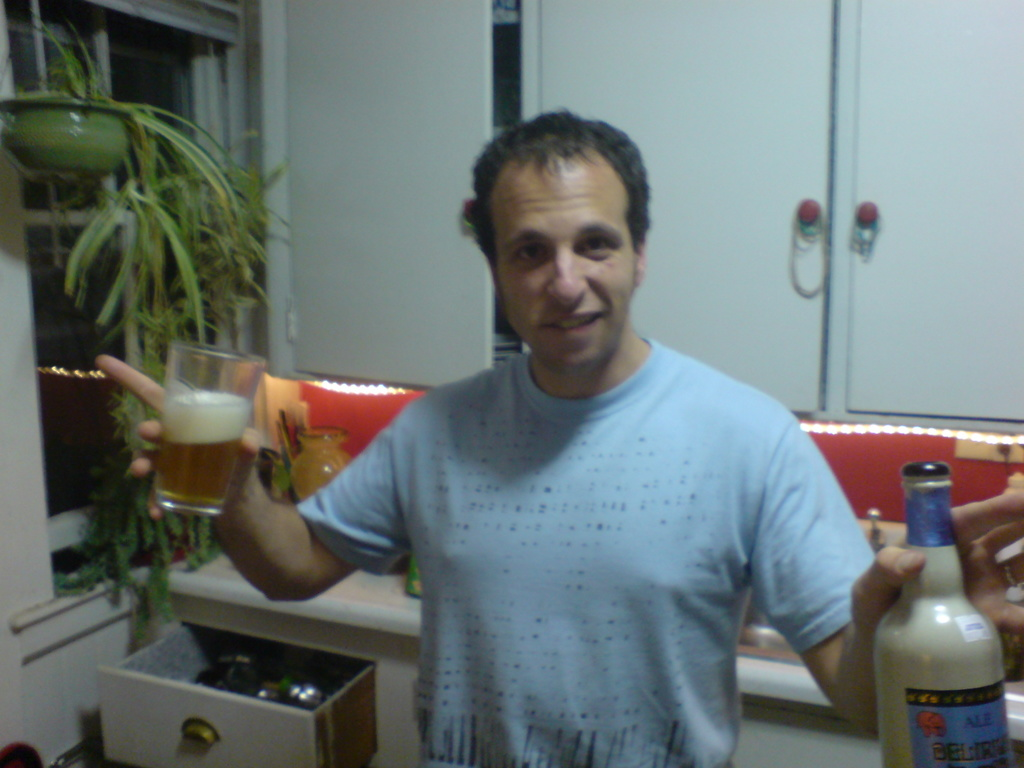Beer: (876, 458, 1011, 767)
